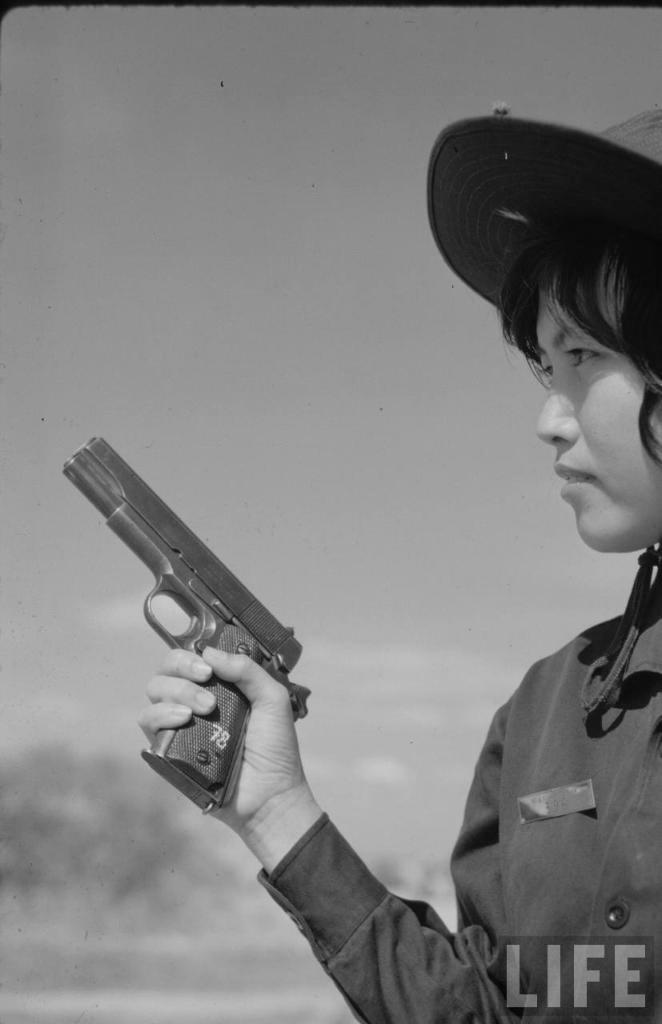gun: (61, 432, 309, 830)
